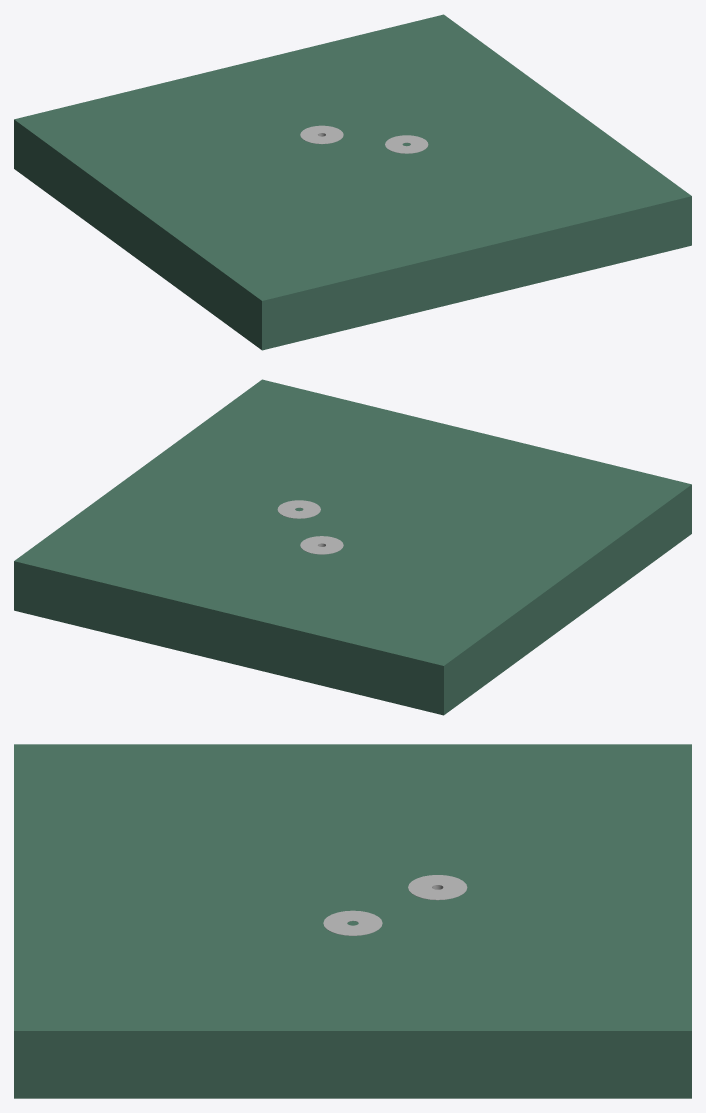
Rendered from slab_A1_circ.glb.
3 views of the same model, one above another, from view 1: azimuth 30°, elevation 25°; view 2: azimuth 150°, elevation 25°; view 3: azimuth 270°, elevation 25° (orthographic). The views are drawn at different scales.
Parts seen in each view (by area): view 1: =>[0:1:1:3], =>[0:1:1:2]; view 2: =>[0:1:1:3], =>[0:1:1:2]; view 3: =>[0:1:1:3], =>[0:1:1:2].
Part boxes in pixels (box(x1,y1,x2,y2)): =>[0:1:1:3]: box(14, 14, 691, 350); =>[0:1:1:2]: box(300, 125, 428, 153); =>[0:1:1:3]: box(14, 379, 691, 715); =>[0:1:1:2]: box(277, 500, 343, 554); =>[0:1:1:3]: box(14, 744, 691, 1098); =>[0:1:1:2]: box(323, 875, 467, 935).
Bounding box in the file's own units: 0.08 × 0.00888 × 0.08.
